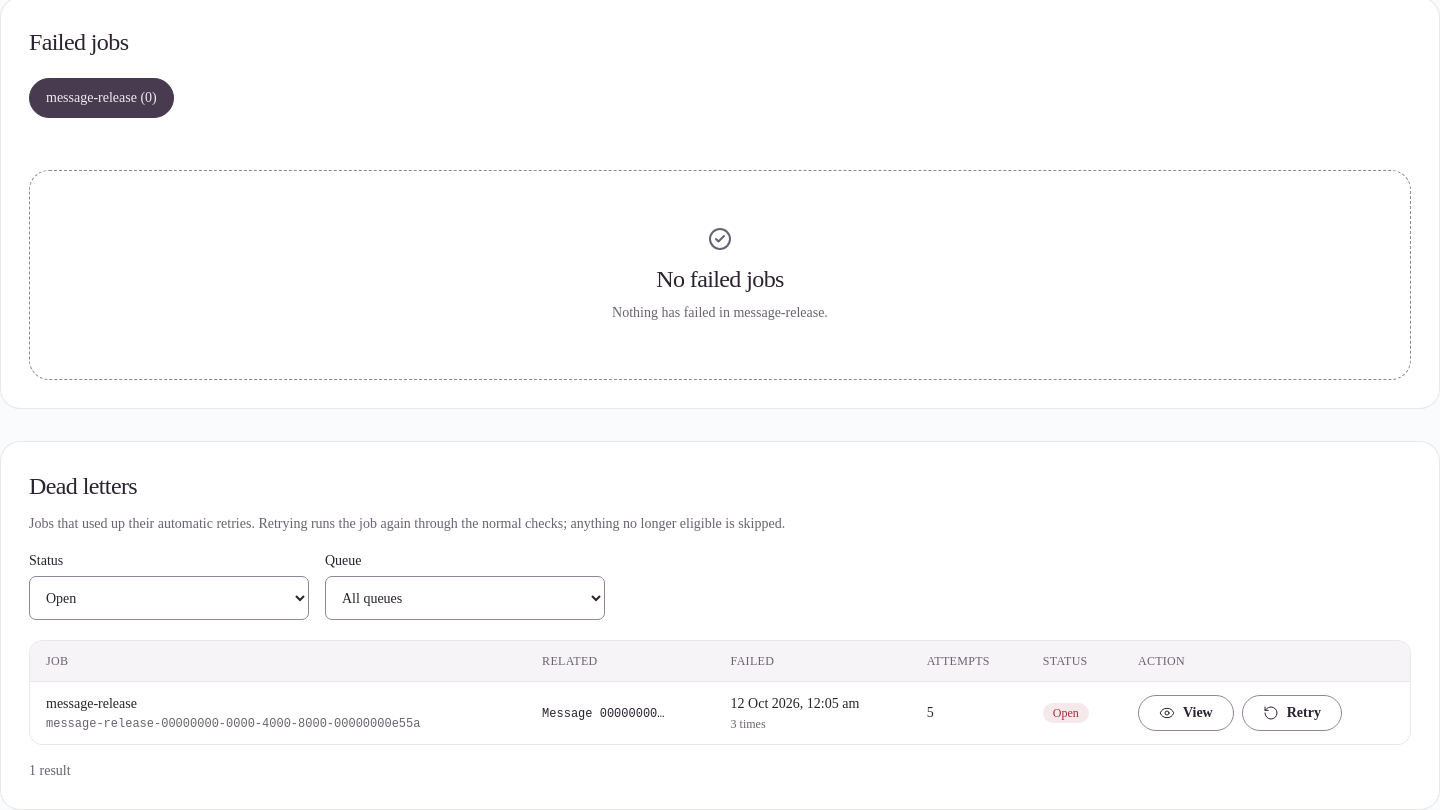
Dead letters › View loads the detail: sanitized error, code and alert status only
The width and height of the screenshot is (1440, 810).
(page scrolled)
Click the button "View". click: (1186, 713)
box: [1138,695,1234,731]
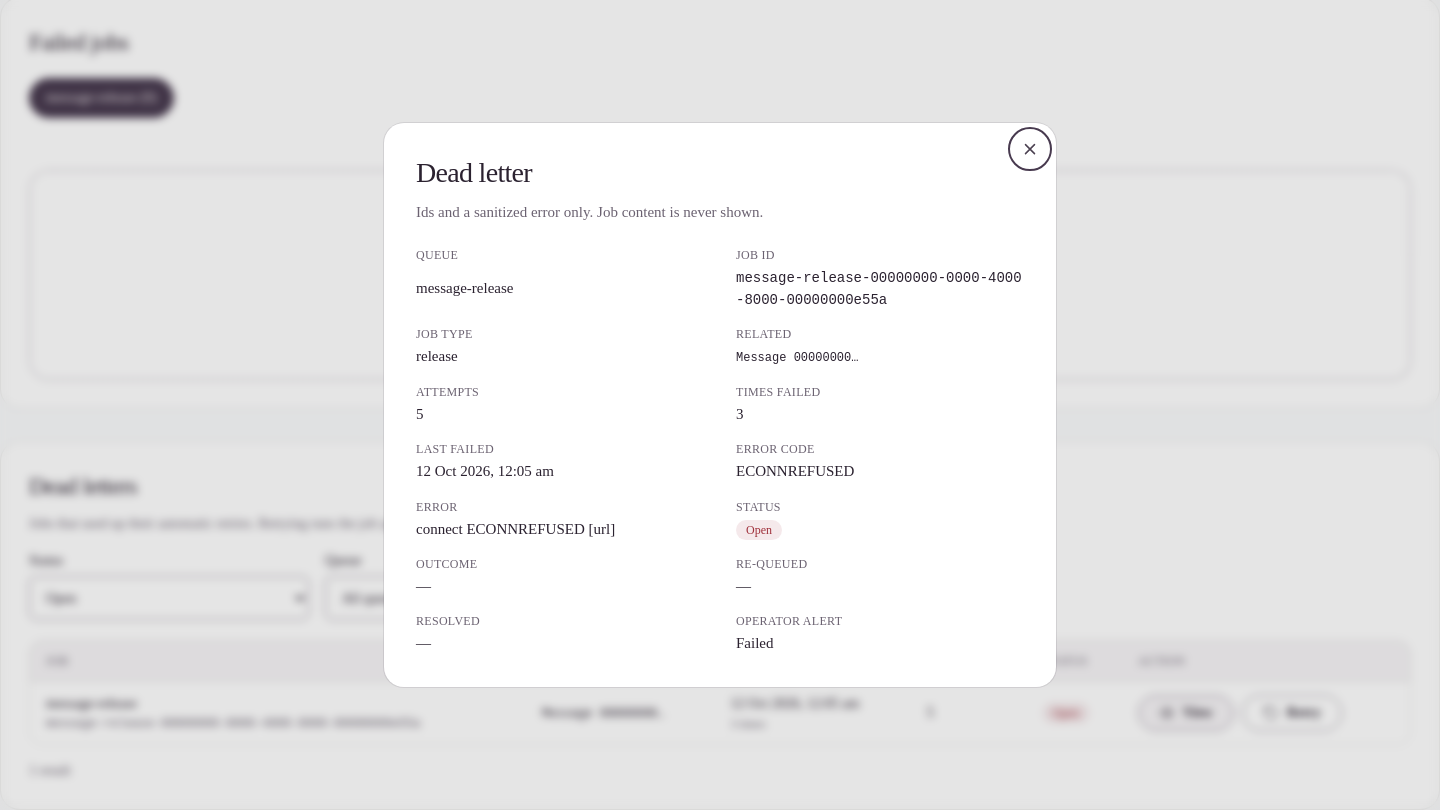
Expected: the text "connect ECONNREFUSED [url]" is shown, [416,521,615,537]
Expected: the text "ECONNREFUSED" is shown, [736,463,854,479]
Expected: the text "Failed" is shown, [736,636,774,652]
